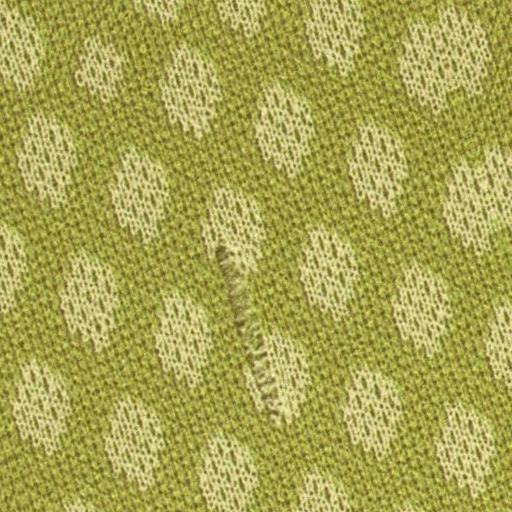slub: (213, 237, 288, 424)
